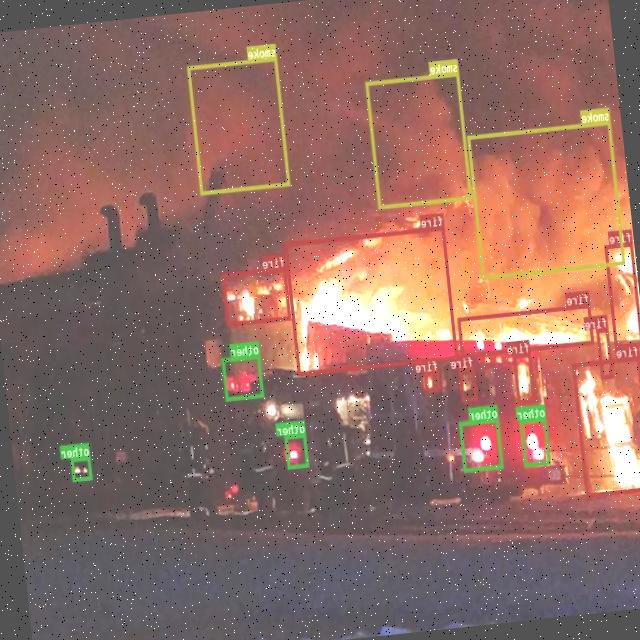fire: (284, 225, 458, 375), (572, 355, 640, 495), (457, 302, 594, 357), (222, 266, 292, 326), (604, 241, 640, 346), (512, 351, 536, 403), (596, 327, 614, 378), (460, 366, 478, 401), (424, 370, 441, 390)
smoke: (468, 120, 626, 278), (365, 72, 472, 208), (187, 56, 290, 194)
